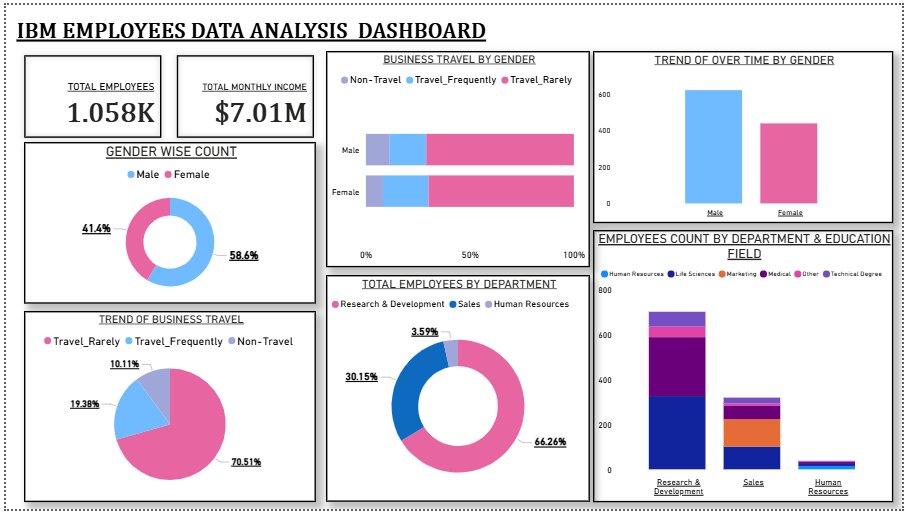

Layout of this report page (visuals, bound fields, positions):
{"tool":"powerbi","page":{"name":"Page 1","canvas":[1280,720],"ordinal":0},"visuals":[{"type":"textbox","box":[10,14.3,1030,51.4],"z":0},{"type":"cardVisual","fields":{"Data":["Employee Data.Total_employees","Employee Data.Sum_of_income"]},"box":[10,55.7,447.1,150],"z":1000},{"type":"donutChart","title":"GENDER WISE COUNT","fields":{"Category":["Employee Data.Gender"],"Y":["CountNonNull(Employee Data.Gender)"]},"box":[25.7,195.7,417.1,231.4],"z":2000},{"type":"columnChart","title":"EMPLOYEES COUNT BY DEPARTMENT & EDUCATION FIELD","fields":{"Category":["Employee Data.Department"],"Series":["Employee Data.EducationField"],"Y":["CountNonNull(Employee Data.Department)"]},"box":[838.6,321.4,428.6,388.6],"z":3000},{"type":"pieChart","title":"TREND OF BUSINESS TRAVEL","fields":{"Category":["Employee Data.BusinessTravel"],"Y":["CountNonNull(Employee Data.BusinessTravel)"]},"box":[25.7,437.1,417.1,272.9],"z":4000},{"type":"hundredPercentStackedBarChart","title":"BUSINESS TRAVEL BY GENDER","fields":{"Category":["Employee Data.Gender"],"Y":["CountNonNull(Employee Data.Gender)"],"Series":["Employee Data.BusinessTravel"]},"box":[457.1,65.7,377.1,308.6],"z":5000},{"type":"clusteredColumnChart","title":"TREND OF OVER TIME BY GENDER","fields":{"Category":["Employee Data.Gender"],"Y":["CountNonNull(Employee Data.OverTime)"]},"box":[838.6,65.7,428.6,245.7],"z":6000},{"type":"donutChart","title":"TOTAL EMPLOYEES BY DEPARTMENT","fields":{"Category":["Employee Data.Department"],"Y":["Employee Data.Total_employees"]},"box":[457.1,385.7,377.1,324.3],"z":7000}]}

Visuals, with their boxes in screenshot pixels (x1, y1, x2, y2), scaled from the page's 1280x720 canvas onto the 909x514 screenshot:
textbox: 7,10,739,47
cardVisual - Employee Data.Total_employees x Employee Data.Sum_of_income: 7,40,325,147
"GENDER WISE COUNT" donutChart: 18,140,314,305
"EMPLOYEES COUNT BY DEPARTMENT & EDUCATION FIELD" columnChart: 596,229,900,507
"TREND OF BUSINESS TRAVEL" pieChart: 18,312,314,507
"BUSINESS TRAVEL BY GENDER" hundredPercentStackedBarChart: 325,47,592,267
"TREND OF OVER TIME BY GENDER" clusteredColumnChart: 596,47,900,222
"TOTAL EMPLOYEES BY DEPARTMENT" donutChart: 325,275,592,507
